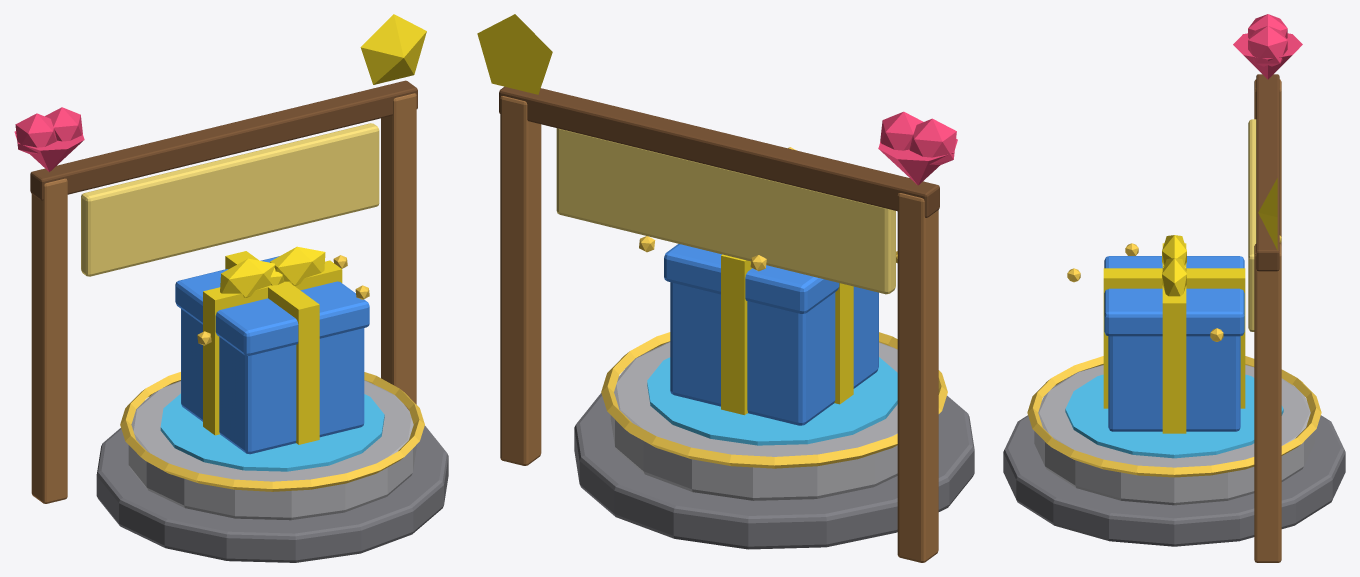
Rendered from puesto_diario.glb.
The picture shows the model from 3 angles, left to right: view 1: azimuth 30°, elevation 25°; view 2: azimuth 150°, elevation 25°; view 3: azimuth 270°, elevation 25°; orthographic projection. The views are drawn at different scales.
Visible parts, largest first — view 1: Base, Regalo, Cartel; view 2: Base, Regalo, Cartel; view 3: Base, Regalo, Cartel.
Part boxes in pixels (x1,y1,x2,y2): Base: (14,14,448,562); Regalo: (175,246,369,454); Cartel: (81,123,379,276); Base: (477,14,974,562); Regalo: (639,147,897,425); Cartel: (556,128,895,294); Base: (1003,14,1345,562); Regalo: (1067,235,1281,433); Cartel: (1248,119,1256,331).
Bounding box in the file's own units: 5.93 × 5.4 × 4.4.
1 material, 1 textured.
